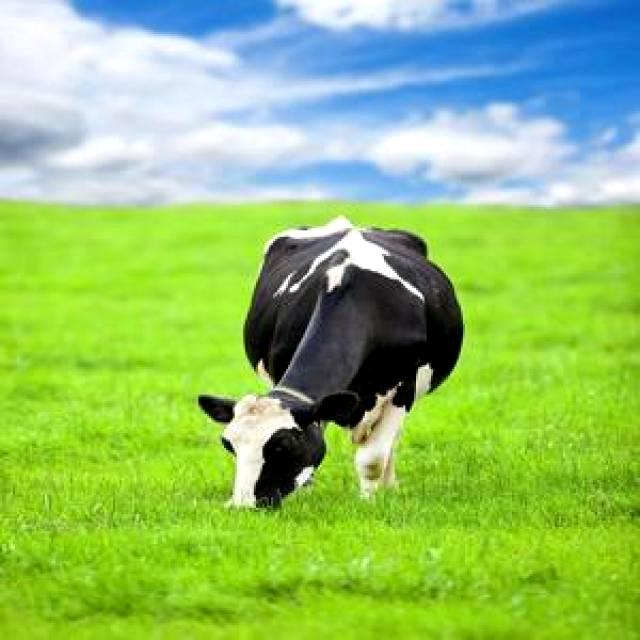COW: (199, 218, 462, 507)
